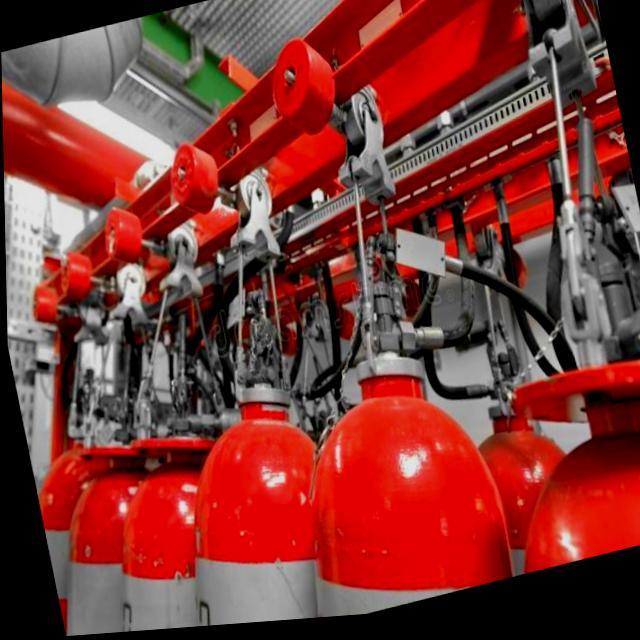FireExtinguisher: (243, 262, 518, 626), (128, 296, 377, 633), (56, 334, 279, 637), (21, 381, 231, 639), (460, 305, 640, 586), (438, 343, 602, 592)
